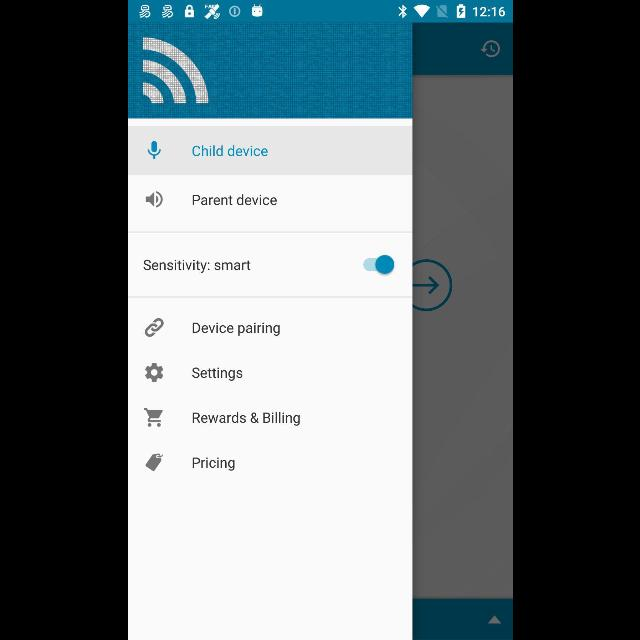icon: (143, 408, 163, 428), (144, 363, 164, 382), (145, 453, 163, 471), (147, 140, 161, 160)
image: (142, 37, 208, 103), (144, 318, 162, 338), (146, 192, 162, 208)
panel: (128, 24, 412, 640)
switch: (362, 256, 394, 274)
text: (142, 260, 250, 274), (191, 412, 299, 426), (191, 322, 279, 336), (192, 194, 276, 206), (192, 145, 268, 157), (192, 367, 242, 381), (192, 457, 234, 471)
uppertaskbar: (128, 1, 512, 23)
